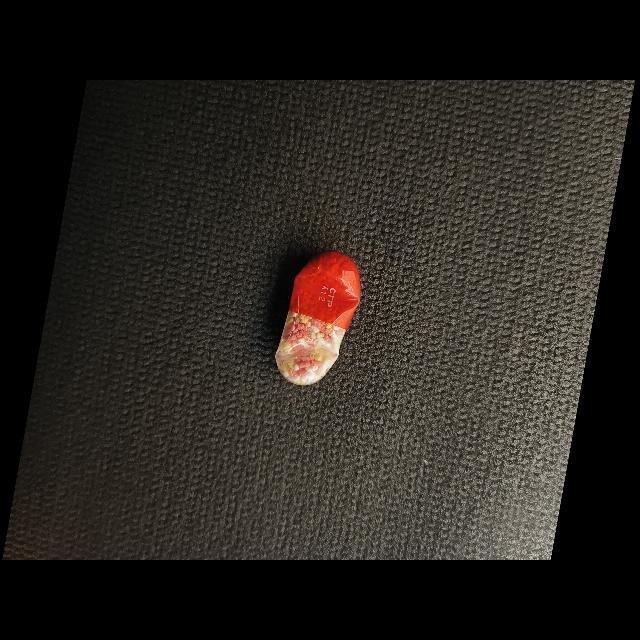Defective Capsule: (275, 251, 361, 385)
